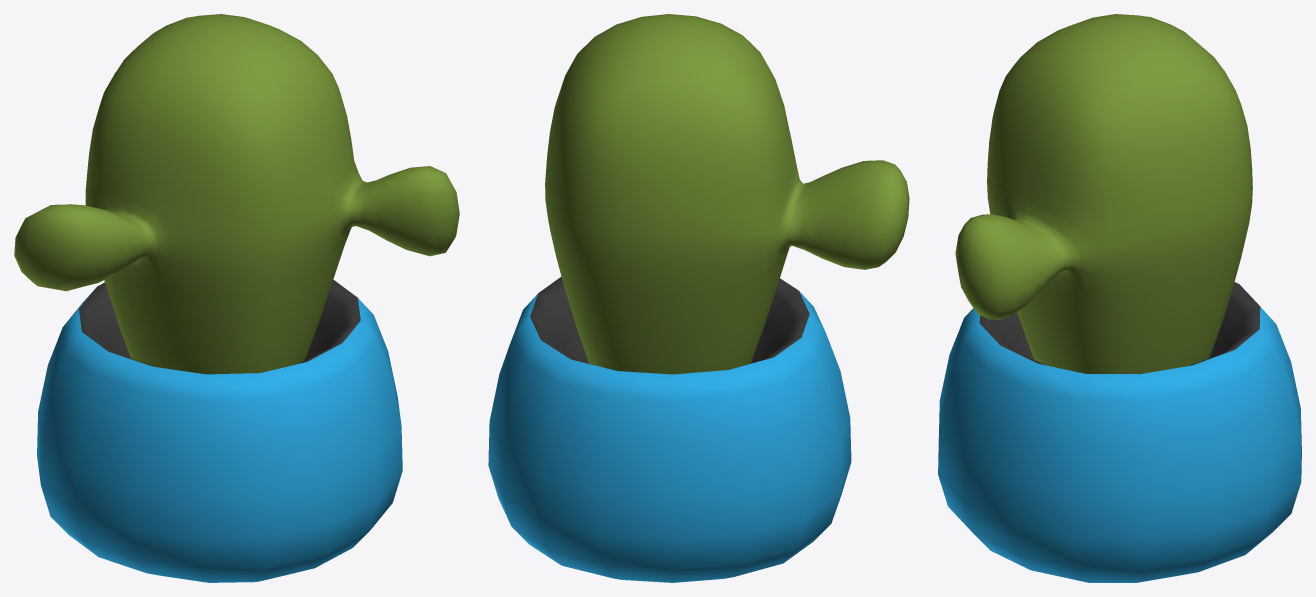
The model's file is cactus.fbx.
3 renders of one model, left to right at view 1: azimuth 30°, elevation 25°; view 2: azimuth 150°, elevation 25°; view 3: azimuth 270°, elevation 25°, orthographic.
Parts seen in each view (by area): view 1: Cube.001; view 2: Cube.001; view 3: Cube.001.
Boxes of the visible parts, box(x1,y1,x2,y2) form: Cube.001: box(14, 14, 459, 582); Cube.001: box(488, 14, 909, 582); Cube.001: box(938, 14, 1301, 582).
Size of the model in its own units: 307 by 389 by 248.
